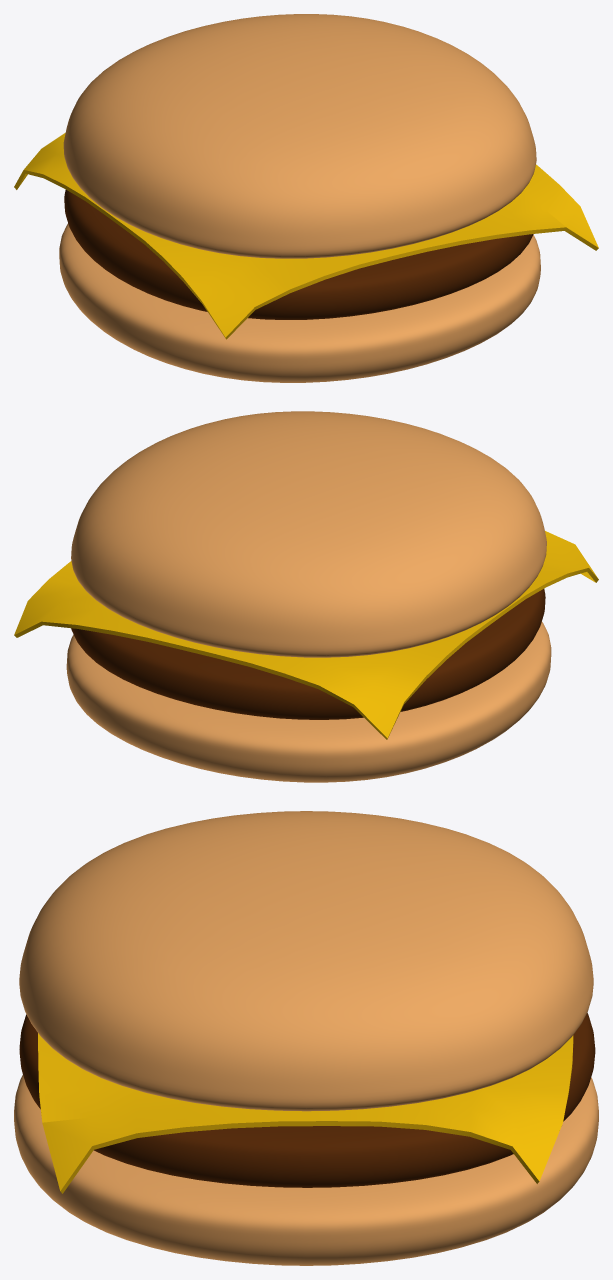
Rendered from burger-draco.glb.
3 renders of one model, top to bottom at view 1: azimuth 30°, elevation 25°; view 2: azimuth 150°, elevation 25°; view 3: azimuth 270°, elevation 25°, orthographic. The views are drawn at different scales.
Parts seen in each view (by area): view 1: Cube.002, Cube, Plane, Cube.001; view 2: Cube.002, Cube, Cube.001, Plane; view 3: Cube.002, Cube, Plane, Cube.001.
Part boxes in pixels (left/top/right/bottom): Cube.002: left=63, top=14, right=536, bottom=258; Cube: left=59, top=223, right=540, bottom=382; Plane: left=14, top=133, right=598, bottom=339; Cube.001: left=64, top=190, right=533, bottom=319; Cube.002: left=71, top=411, right=546, bottom=657; Cube: left=66, top=621, right=551, bottom=782; Cube.001: left=71, top=589, right=545, bottom=719; Plane: left=14, top=531, right=598, bottom=739; Cube.002: left=19, top=811, right=593, bottom=1111; Cube: left=14, top=1075, right=598, bottom=1265; Plane: left=38, top=1033, right=573, bottom=1193; Cube.001: left=19, top=1013, right=595, bottom=1187.
Size of the model in its own units: 2.12 by 1.2 by 2.12.
